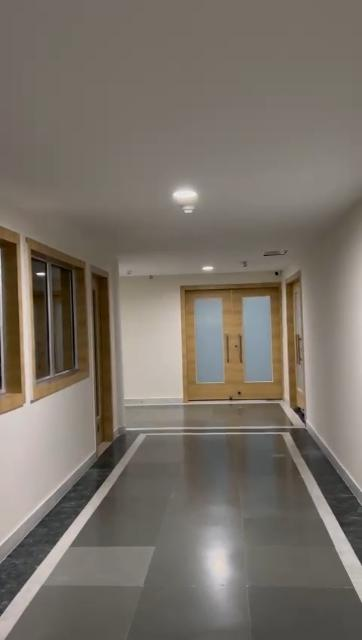door: (181, 287, 281, 398), (93, 268, 113, 440), (289, 282, 305, 408)
floor: (2, 400, 362, 640)
wall: (305, 196, 362, 475), (3, 385, 94, 540), (0, 180, 112, 269), (123, 265, 177, 397)
